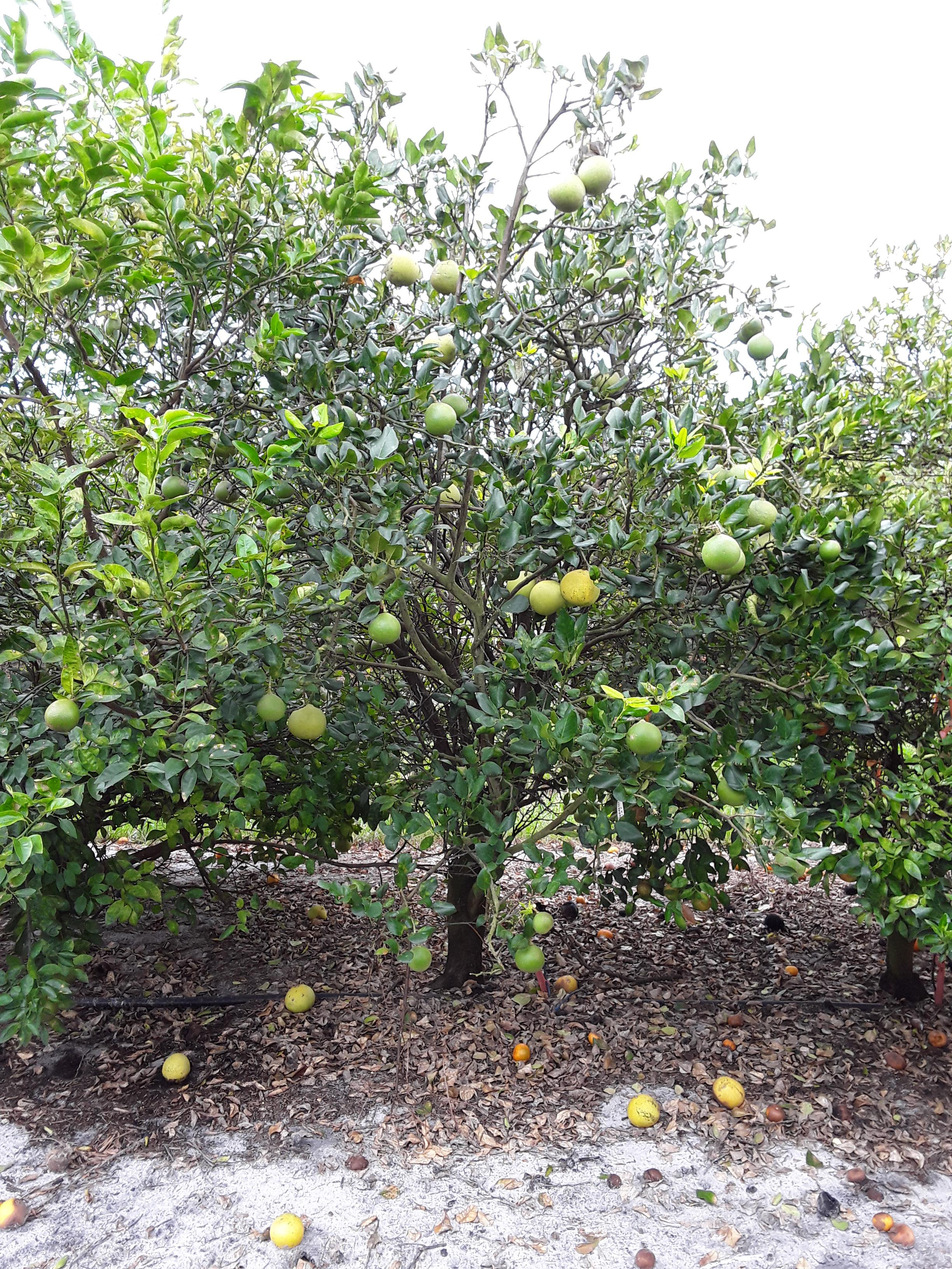fruit_on_ground: (576, 152, 618, 196), (544, 171, 586, 214), (286, 701, 328, 742), (560, 567, 602, 608), (623, 719, 665, 758), (42, 695, 83, 734), (418, 328, 460, 366), (700, 532, 742, 570), (527, 577, 566, 617), (383, 249, 422, 287), (427, 258, 465, 296), (365, 610, 403, 647), (744, 495, 781, 532), (502, 568, 541, 603), (423, 401, 458, 437), (715, 772, 749, 807), (512, 941, 546, 974), (254, 690, 287, 724), (589, 366, 624, 397), (745, 331, 777, 363), (100, 309, 132, 341), (714, 545, 747, 576), (431, 479, 462, 511), (737, 315, 768, 344), (338, 264, 369, 292), (440, 390, 471, 418), (159, 474, 190, 501), (210, 430, 239, 457), (836, 854, 863, 883), (406, 944, 435, 971), (527, 910, 555, 937), (332, 820, 357, 850), (212, 478, 239, 505), (817, 537, 844, 563), (623, 802, 650, 825), (690, 888, 715, 911), (270, 479, 294, 501), (809, 716, 831, 739), (662, 878, 684, 899), (320, 835, 340, 858), (633, 876, 653, 899), (334, 834, 355, 853)
fruit_on_tree: (268, 1211, 306, 1251), (626, 1092, 662, 1128), (282, 981, 317, 1016), (711, 1074, 746, 1108), (159, 1051, 193, 1085), (1, 1196, 30, 1230), (407, 944, 434, 970), (715, 1224, 743, 1248), (890, 1222, 917, 1246), (816, 1191, 839, 1217), (305, 901, 330, 923), (553, 973, 579, 994), (872, 1210, 896, 1232), (926, 1027, 949, 1049), (762, 911, 786, 932), (884, 1049, 908, 1070), (763, 1102, 786, 1123), (345, 1153, 369, 1173), (511, 1041, 532, 1063), (634, 1248, 656, 1268), (844, 1165, 866, 1184), (905, 933, 926, 952), (558, 901, 579, 919), (726, 1010, 746, 1028), (864, 1185, 884, 1202), (643, 1166, 663, 1183), (585, 1030, 605, 1047), (595, 926, 616, 940), (605, 1172, 622, 1189), (264, 871, 282, 887), (722, 1035, 739, 1051), (782, 962, 799, 977), (113, 834, 131, 848), (573, 892, 590, 906), (212, 848, 228, 862), (732, 858, 747, 872), (605, 844, 620, 857), (601, 861, 616, 872)
